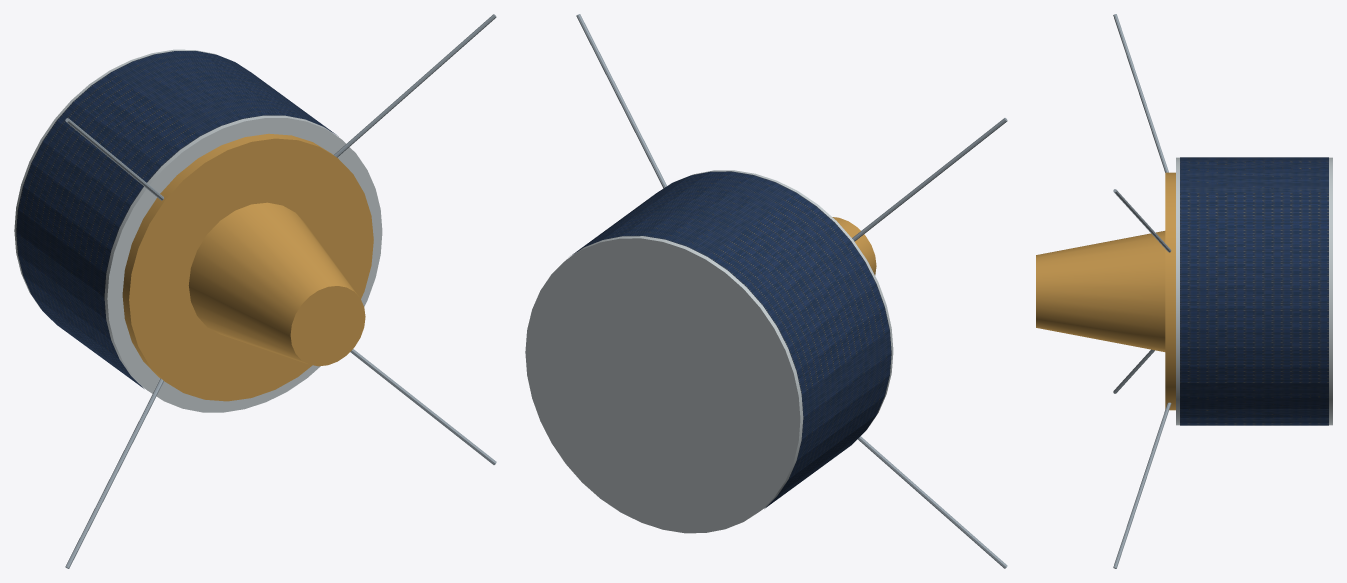
Rendered from ref-sirio-10294.glb.
3 views of the same model, side by side, from view 1: azimuth 30°, elevation 25°; view 2: azimuth 150°, elevation 25°; view 3: azimuth 270°, elevation 25° (orthographic). The views are drawn at different scales.
Visible parts, largest first — view 1: Body-mounted solar cells, Despun equipment deck, Axial antenna horn, Solar drum core, Whip antenna (×4); view 2: Solar drum core, Body-mounted solar cells, Whip antenna (×3), Axial antenna horn; view 3: Body-mounted solar cells, Axial antenna horn, Despun equipment deck, Solar drum core, Whip antenna (×2).
Part boxes in pixels (<box>): Body-mounted solar cells: <box>16,51,338,388</box>; Despun equipment deck: <box>122,133,373,401</box>; Axial antenna horn: <box>188,202,365,366</box>; Solar drum core: <box>14,49,382,412</box>; Whip antenna (×4): <box>65,14,496,568</box>; Solar drum core: <box>525,170,893,533</box>; Body-mounted solar cells: <box>571,171,891,508</box>; Whip antenna (×3): <box>576,14,1007,568</box>; Axial antenna horn: <box>832,217,876,275</box>; Body-mounted solar cells: <box>1180,157,1328,425</box>; Axial antenna horn: <box>1036,231,1165,351</box>; Despun equipment deck: <box>1165,172,1175,410</box>; Solar drum core: <box>1176,157,1332,425</box>; Whip antenna (×2): <box>1113,14,1171,568</box>.
Bounding box in the file's own units: 2.19 × 2.19 × 1.55.
Materials: 4 (1 with a texture image).
